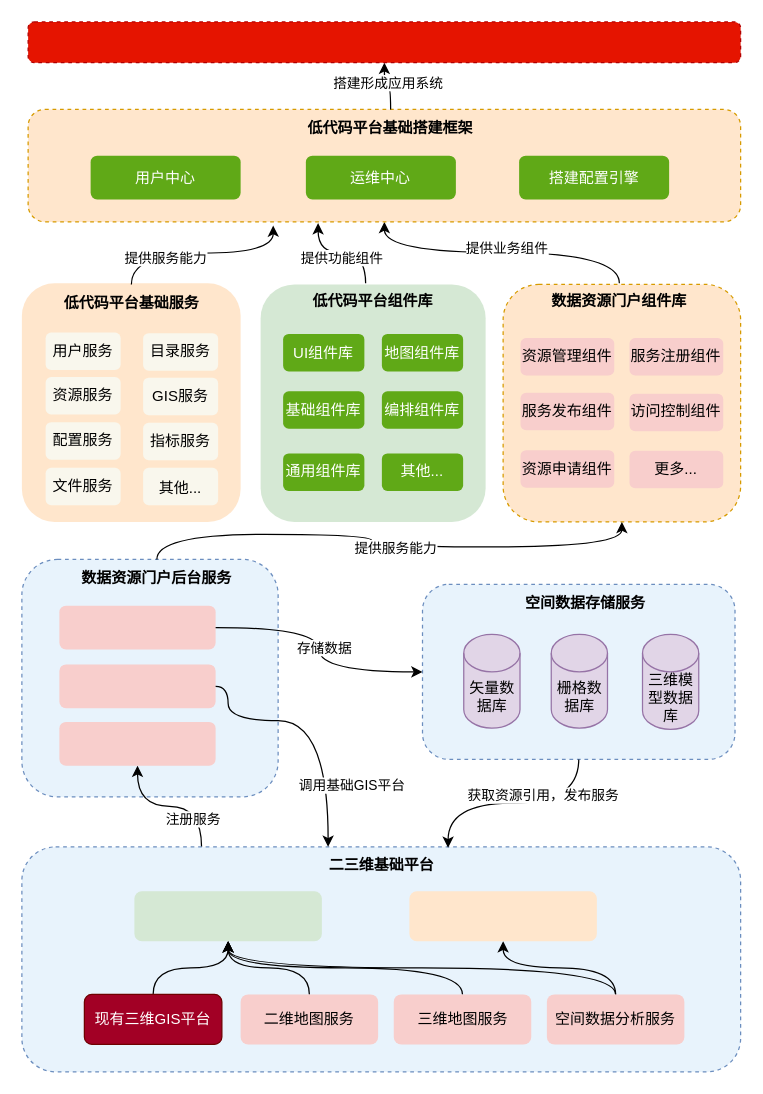
Some shapes in this 763 by 1094 pixel diagram are drawn without their labels. Here are the shapes that lost their labels. From the top down, the centre of each, then its label:
At [384,42]: "数据资源门户应用系统".
At [137,627]: "资源管理".
At [137,686]: "服务发布".
At [137,743]: "服务注册".
At [227,916]: "标准OGC服务".
At [502,916]: "非标准定制服务".
